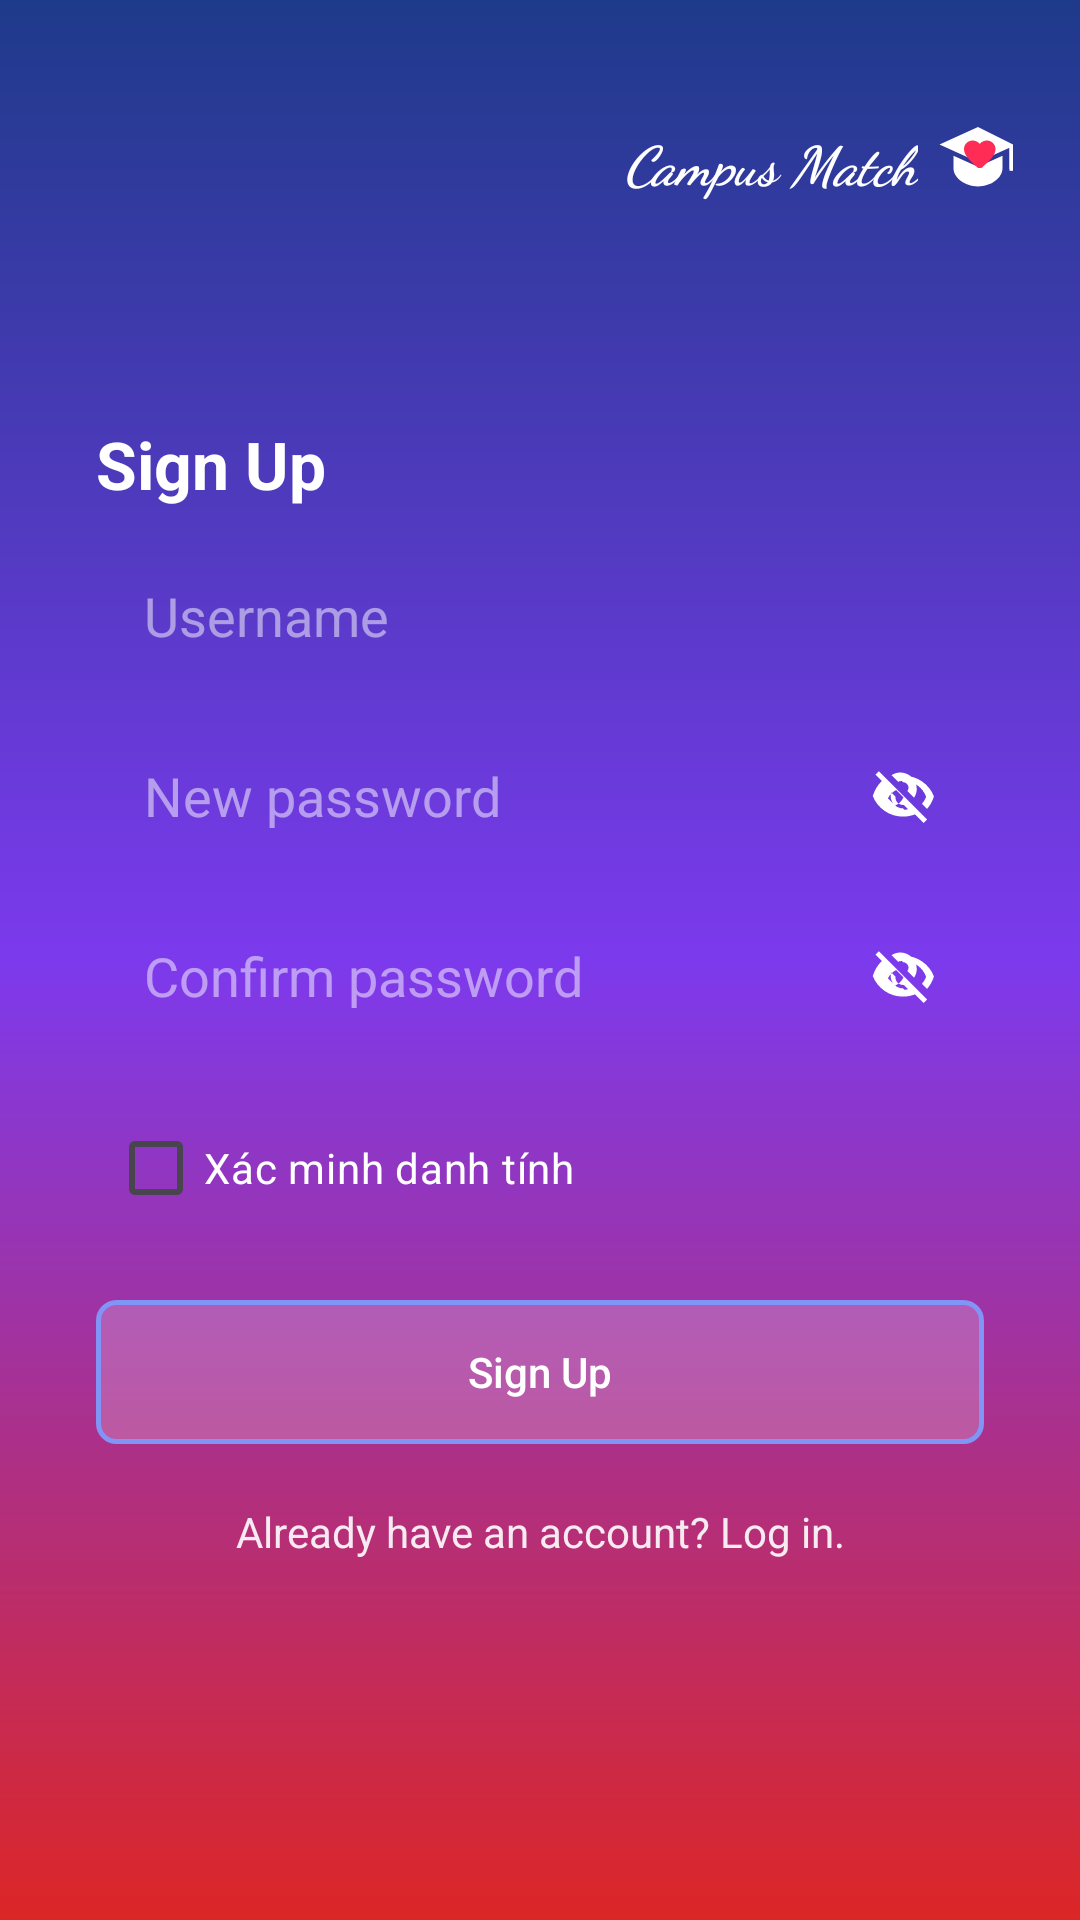

Point at icon controls on the screen. Image size 1080 × 1920, points as point (x, y).
Toggle Password: point (903, 797), point (903, 977)
